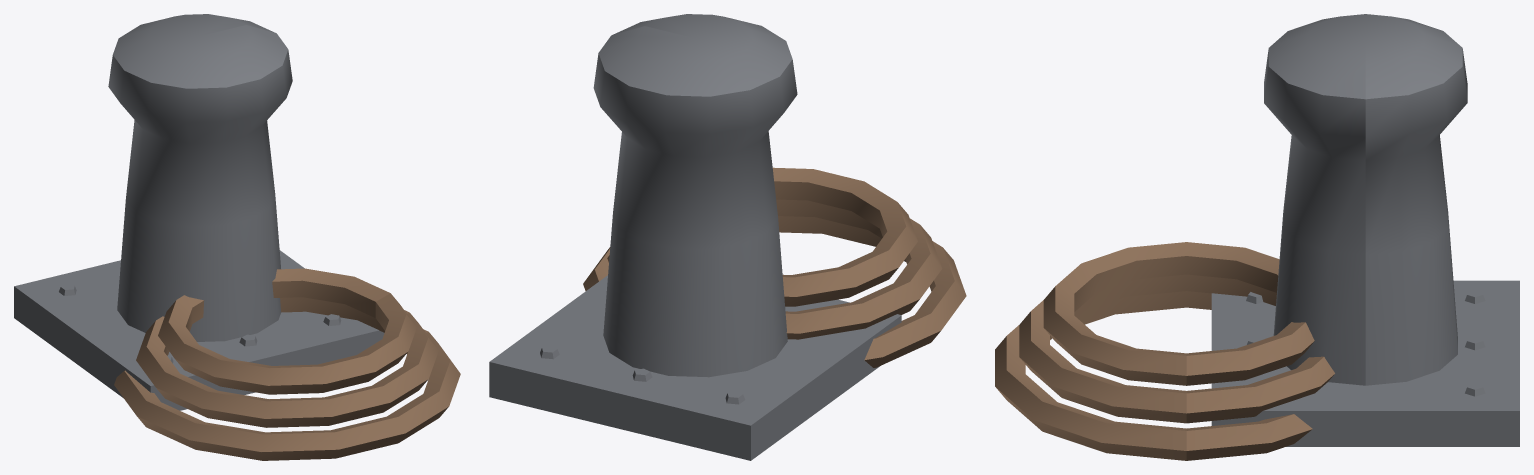
Rendered from steampunk-airship-dock-and-workshop-mooring-bollard-0886a456.glb.
3 views of the same model, side by side, from view 1: azimuth 30°, elevation 25°; view 2: azimuth 150°, elevation 25°; view 3: azimuth 270°, elevation 25° (orthographic). The views are drawn at different scales.
Visible parts, largest first — view 1: mooring-bollard; view 2: mooring-bollard; view 3: mooring-bollard.
Part boxes in pixels (x1,y1,x2,y2): mooring-bollard: (14, 14, 460, 460); mooring-bollard: (489, 14, 966, 460); mooring-bollard: (995, 14, 1519, 460).
Bounding box in the file's own units: 0.79 × 0.76 × 1.06.
